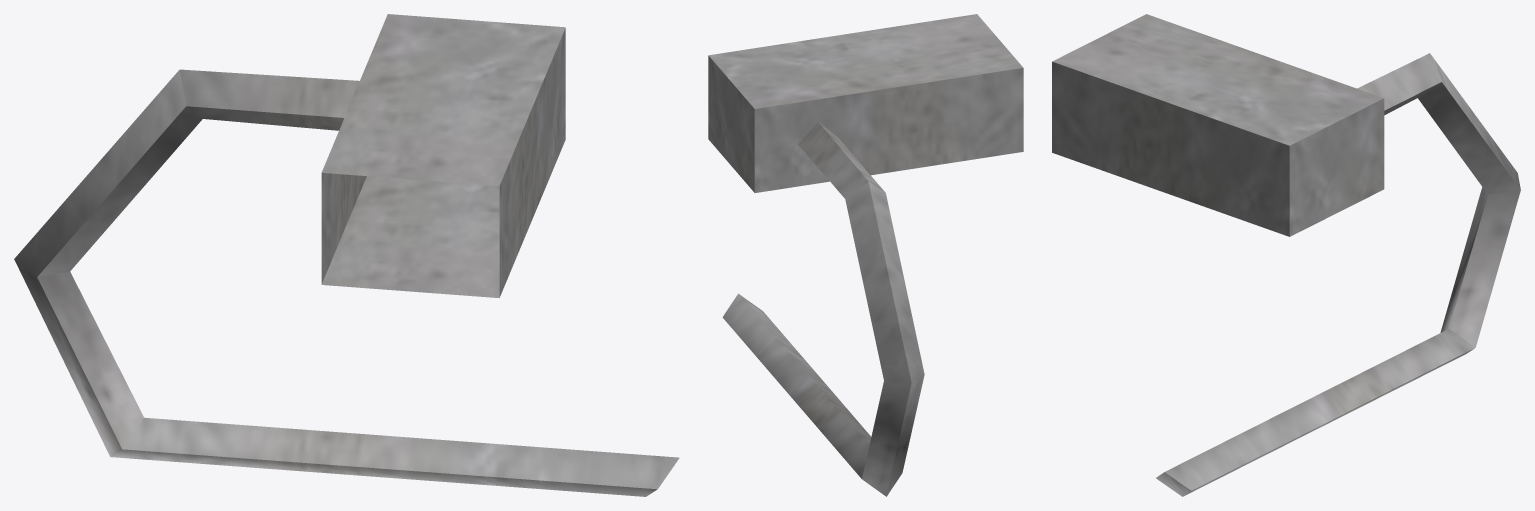
The picture shows the model from 3 angles, left to right: view 1: azimuth 30°, elevation 25°; view 2: azimuth 150°, elevation 25°; view 3: azimuth 270°, elevation 25°; orthographic projection. The views are drawn at different scales.
Visible parts, largest first — view 1: Carrier_02003_Metal_01001_0; view 2: Carrier_02003_Metal_01001_0; view 3: Carrier_02003_Metal_01001_0.
Boxes of the visible parts, left/top/right/bottom form: Carrier_02003_Metal_01001_0: left=14, top=14, right=679, bottom=496; Carrier_02003_Metal_01001_0: left=708, top=14, right=1023, bottom=496; Carrier_02003_Metal_01001_0: left=1052, top=14, right=1520, bottom=496.
Bounding box in the file's own units: 0.1311 × 0.1175 × 0.1445.
Materials: 1 (1 with a texture image).
